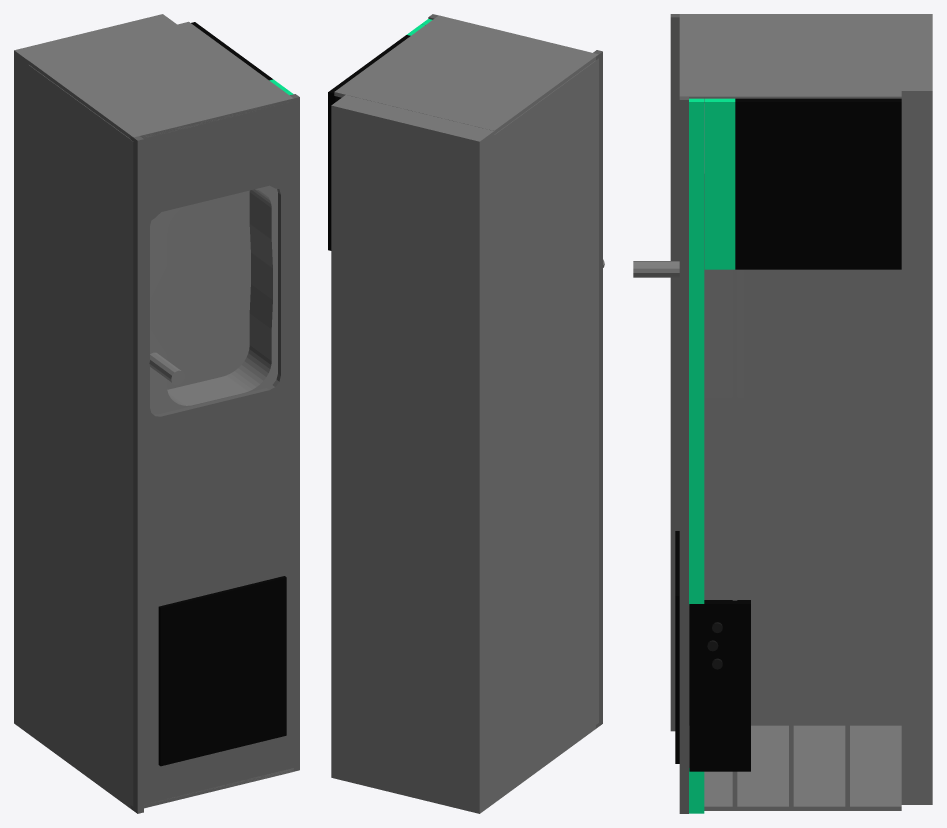
3 renders of one model, left to right at view 1: azimuth 30°, elevation 25°; view 2: azimuth 150°, elevation 25°; view 3: azimuth 270°, elevation 25°, orthographic. The views are drawn at different scales.
Parts seen in each view (by area): view 1: ROOT_link (×9); view 2: ROOT_link (×5); view 3: ROOT_link (×16).
Boxes of the visible parts, <box> form: ROOT_link (×9): <box>14,14,299,813</box>; ROOT_link (×5): <box>328,14,602,813</box>; ROOT_link (×16): <box>633,14,932,813</box>.
Size of the model in its own units: 0.6705 by 2.55 by 0.97.
